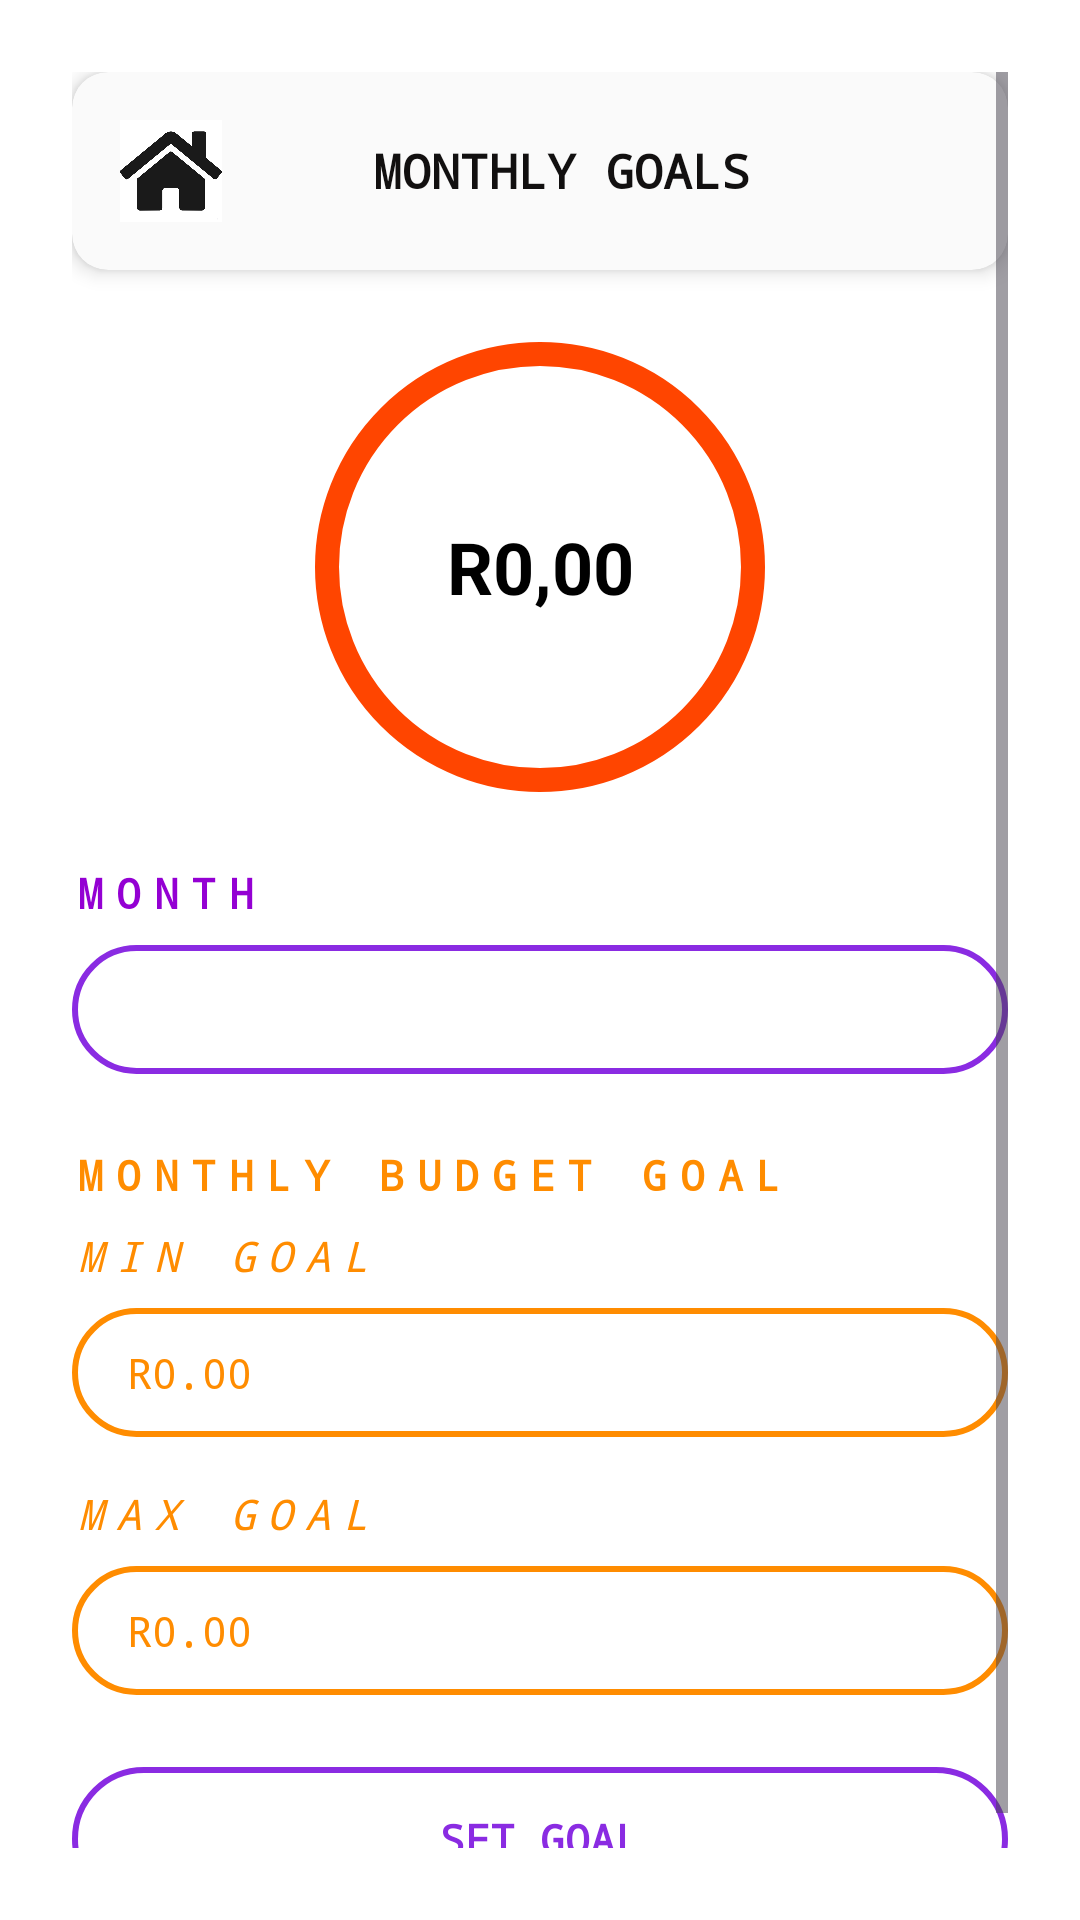

Named icons in this screenshot (1080*1920) and their centers, point (x, y):
Back to Dashboard: point (171, 171)
